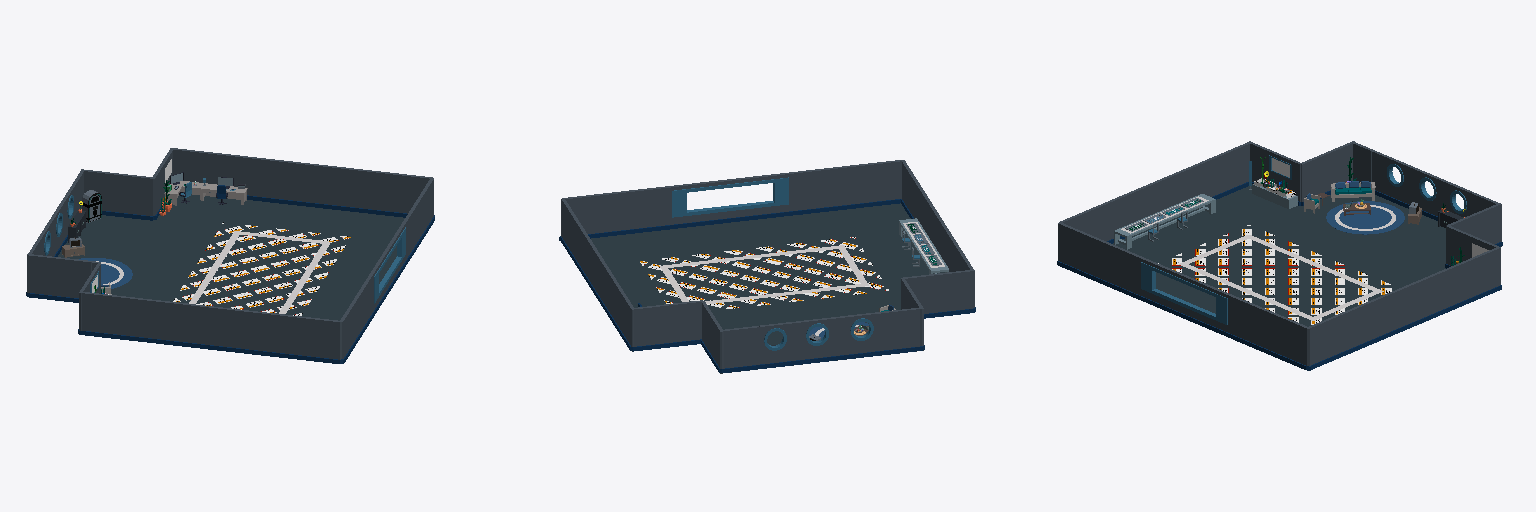
3 renders of one model, left to right at view 1: azimuth 30°, elevation 25°; view 2: azimuth 150°, elevation 25°; view 3: azimuth 270°, elevation 25°, orthographic.
Parts seen in each view (by area): view 1: mergedBlocks; view 2: mergedBlocks; view 3: mergedBlocks.
Boxes of the visible parts, box(x1,y1,x2,y2) form: mergedBlocks: box(26, 148, 434, 363); mergedBlocks: box(559, 160, 975, 373); mergedBlocks: box(1057, 141, 1502, 370).
Size of the model in its own units: 19.19 by 2 by 19.17.
Materials: 59 (1 with a texture image).